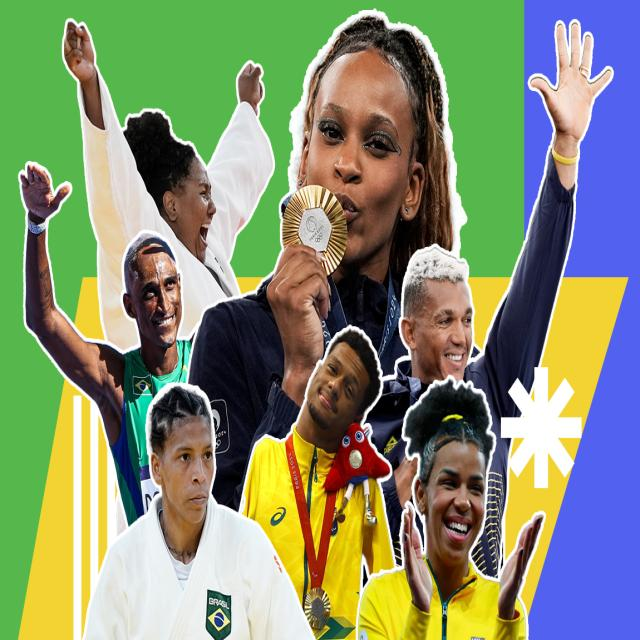sem_oculos: (302, 99, 442, 170), (409, 464, 494, 506), (323, 344, 361, 401), (405, 305, 474, 333), (146, 442, 215, 470), (120, 274, 188, 300), (163, 179, 220, 207)
